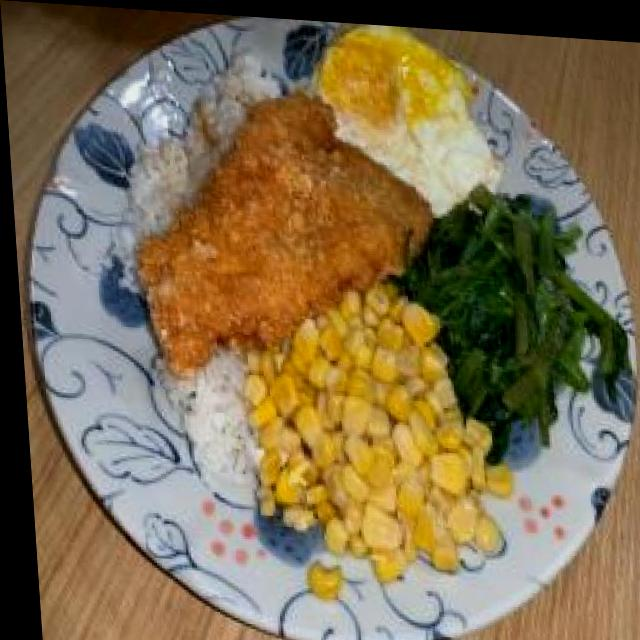fried_chicken: (134, 87, 433, 375)
fried_eggs: (310, 16, 499, 194)
rice: (162, 341, 253, 490)
water_spinach: (407, 189, 604, 432)
